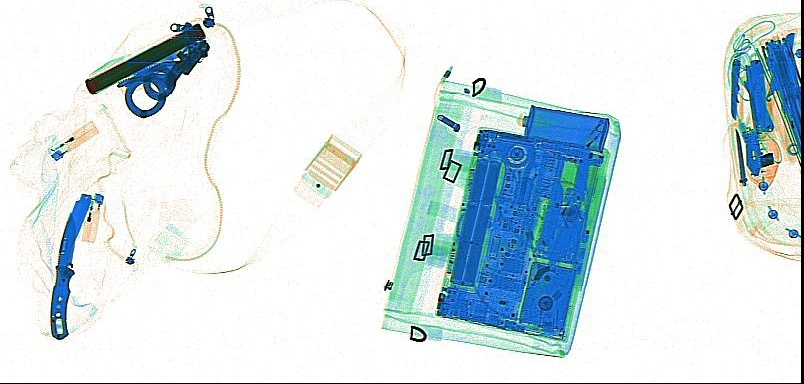handcuffs: (115, 40, 208, 118)
knife: (757, 31, 794, 140), (49, 213, 76, 339), (56, 190, 90, 253), (742, 76, 773, 133), (746, 55, 767, 118), (730, 124, 748, 187), (571, 145, 590, 203), (729, 57, 742, 118)
lighter: (45, 118, 99, 160), (80, 190, 102, 241)
scissors: (731, 50, 766, 134)
zippooil: (519, 104, 610, 152)
